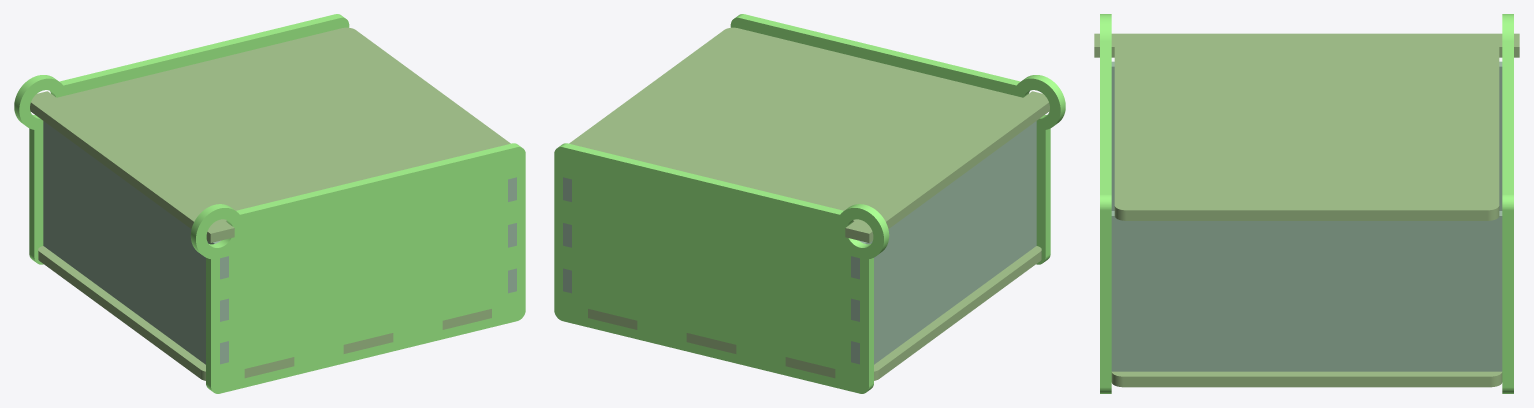
3 renders of one model, left to right at view 1: azimuth 30°, elevation 25°; view 2: azimuth 150°, elevation 25°; view 3: azimuth 270°, elevation 25°, orthographic. The views are drawn at different scales.
Parts seen in each view (by area): view 1: out-left, out-top, out-back, out-right, out-bottom, out-front; view 2: out-right, out-top, out-back, out-left, out-bottom, out-front; view 3: out-top, out-front, out-bottom, out-right, out-left, out-back.
Part boxes in pixels (x1,y1,x2,y2): out-left: (190, 143, 525, 393); out-top: (30, 27, 510, 242); out-back: (43, 121, 228, 364); out-right: (14, 14, 349, 264); out-bottom: (38, 246, 491, 380); out-front: (508, 177, 516, 293); out-right: (554, 143, 889, 393); out-top: (569, 27, 1049, 242); out-back: (851, 121, 1036, 364); out-left: (730, 14, 1065, 264); out-bottom: (588, 246, 1041, 380); out-front: (563, 177, 571, 293); out-top: (1094, 33, 1519, 220); out-front: (1111, 211, 1502, 371); out-bottom: (1111, 371, 1502, 387); out-right: (1502, 14, 1513, 393); out-left: (1100, 14, 1111, 393); out-back: (1111, 61, 1502, 210).
Size of the model in its own units: 0.1111 by 0.0596 by 0.109.
